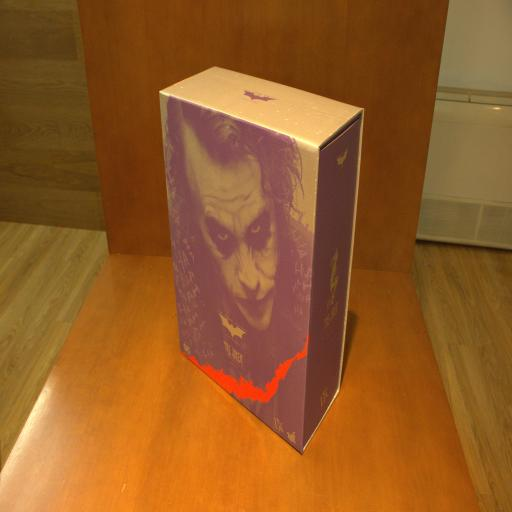Joker: (158, 62, 368, 454)
